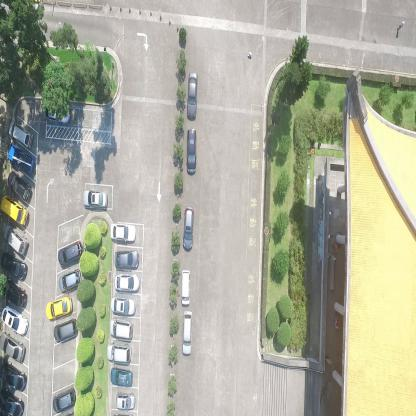car: (0, 192, 29, 225), (1, 305, 28, 339), (0, 361, 27, 395), (3, 222, 28, 256), (0, 332, 25, 366), (7, 144, 35, 174), (0, 250, 28, 280), (0, 277, 26, 308), (58, 239, 84, 268), (43, 99, 71, 125), (7, 172, 31, 202), (7, 119, 33, 146), (53, 316, 78, 343), (45, 296, 73, 320), (53, 386, 77, 413), (0, 388, 24, 415), (58, 269, 82, 294), (110, 221, 136, 244), (106, 342, 131, 365), (186, 72, 198, 119), (82, 189, 107, 211), (182, 208, 195, 250), (113, 249, 139, 270), (181, 310, 193, 354), (109, 318, 133, 340), (110, 296, 136, 316), (114, 390, 136, 412), (186, 127, 196, 175), (115, 273, 140, 292), (110, 368, 132, 388), (181, 268, 191, 306)
